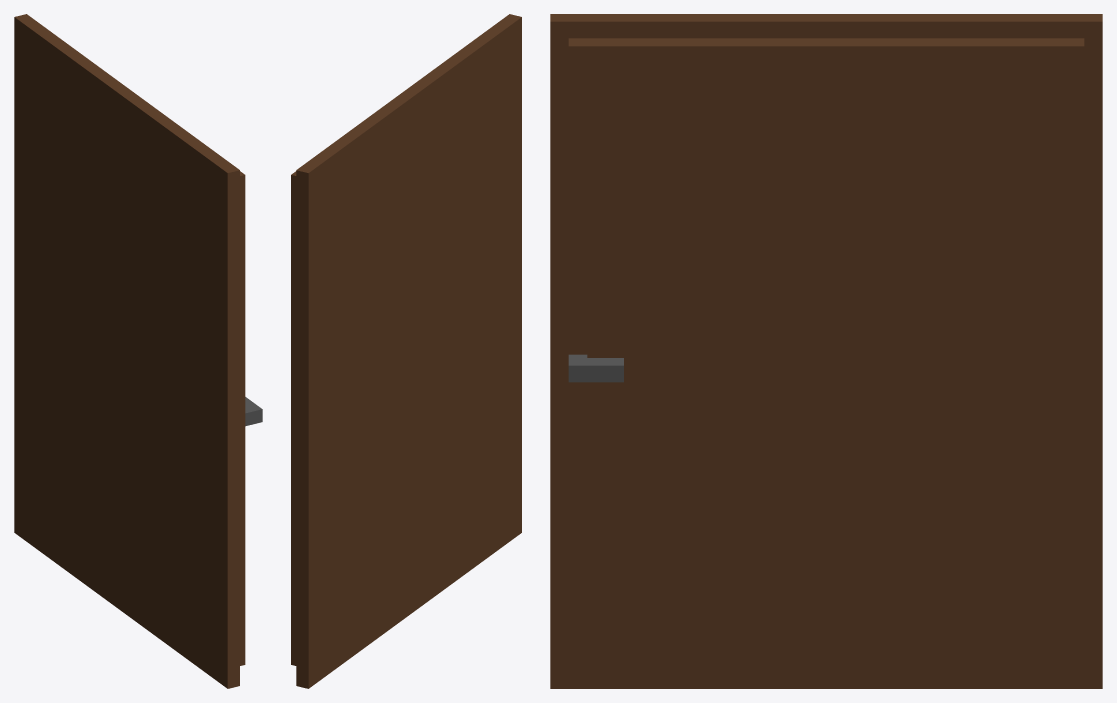
The model's file is Door.fbx.
3 renders of one model, left to right at view 1: azimuth 30°, elevation 25°; view 2: azimuth 150°, elevation 25°; view 3: azimuth 270°, elevation 25°, orthographic. The views are drawn at different scales.
Visible parts, largest first — view 1: Cube; view 2: Cube; view 3: Cube.
Part boxes in pixels (<box>): Cube: <box>14,14,262,688</box>; Cube: <box>291,14,521,688</box>; Cube: <box>550,14,1102,688</box>.
Bounding box in the file's own units: 17 × 200 × 150.
